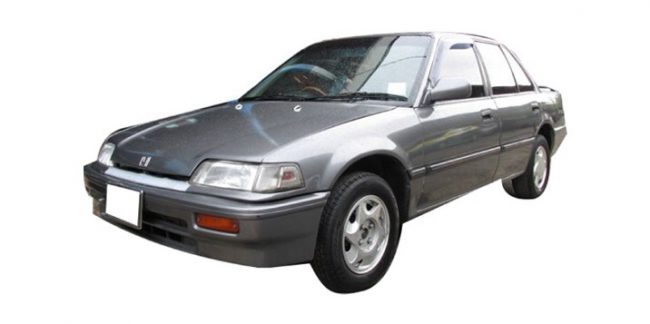sedan: (80, 31, 570, 296)
